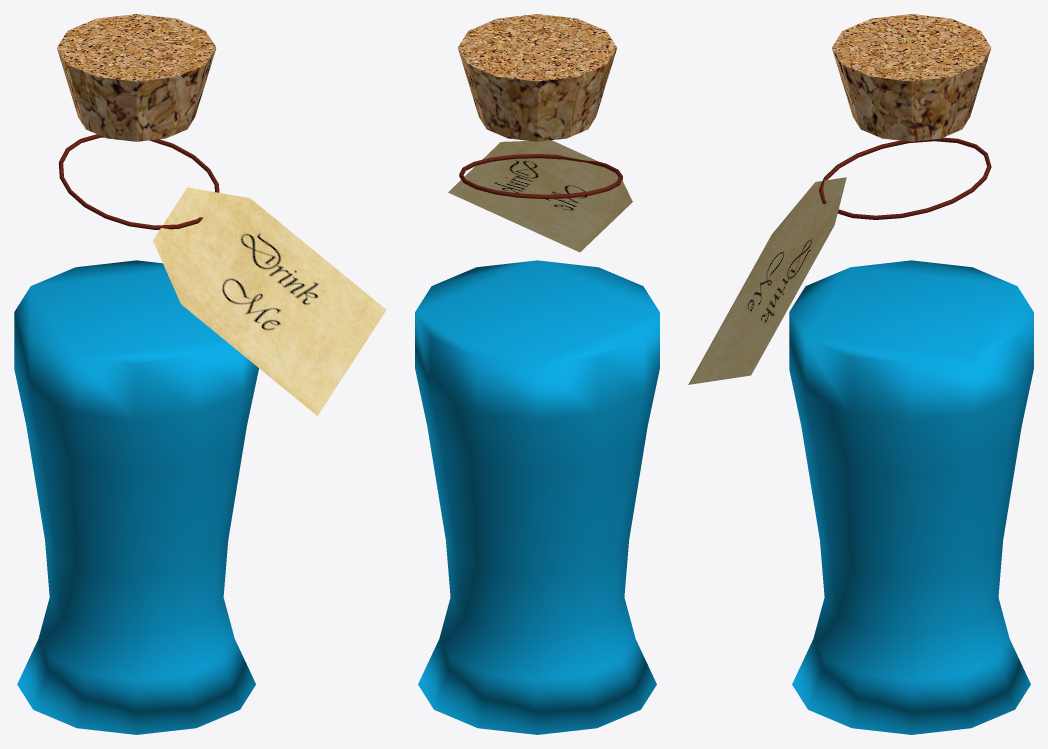
File: bottlePt2.obj
3 renders of one model, left to right at view 1: azimuth 30°, elevation 25°; view 2: azimuth 150°, elevation 25°; view 3: azimuth 270°, elevation 25°, orthographic.
Parts seen in each view (by area): view 1: polySurface33; view 2: polySurface33; view 3: polySurface33.
Part boxes in pixels (x1,y1,x2,y2): polySurface33: (14,14,386,734); polySurface33: (415,14,659,734); polySurface33: (688,14,1033,734).
Bounding box in the file's own units: 0.4702 × 1.04 × 0.5106.
1 material, 1 textured.
